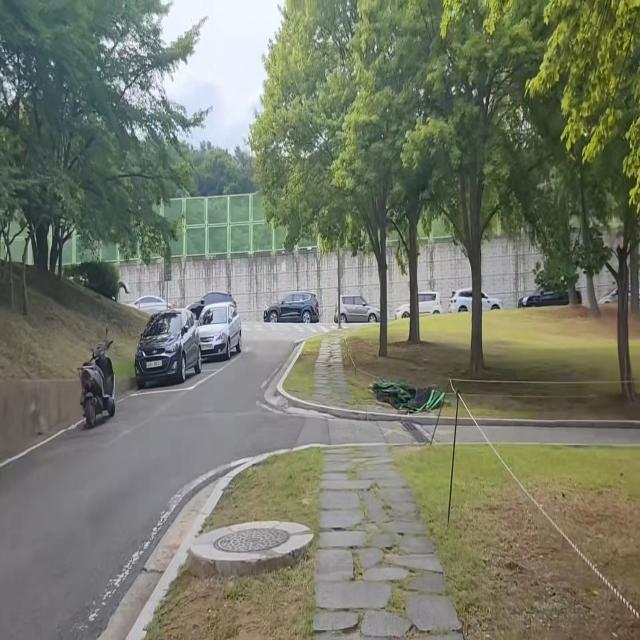obstacle: (132, 290, 244, 394), (77, 319, 122, 439), (367, 372, 448, 416)
road: (0, 327, 312, 640)
sidewalk: (308, 440, 472, 640), (313, 332, 353, 406)
